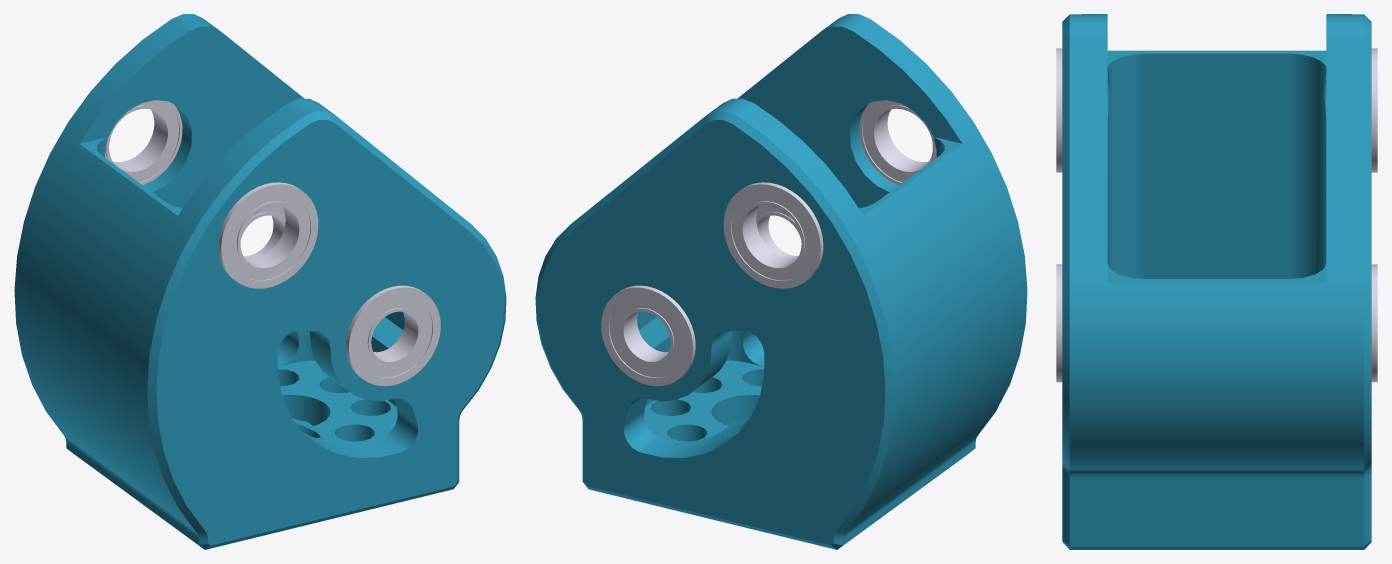
File: shoulder_p.dae
3 renders of one model, left to right at view 1: azimuth 30°, elevation 25°; view 2: azimuth 150°, elevation 25°; view 3: azimuth 270°, elevation 25°, orthographic. The views are drawn at different scales.
Parts seen in each view (by area): view 1: FBXASC227FBXASC130FBXASC189FBXASC227FBXASC131FBXASC170FBXASC (×5); view 2: FBXASC227FBXASC130FBXASC189FBXASC227FBXASC131FBXASC170FBXASC (×5); view 3: FBXASC227FBXASC130FBXASC189FBXASC227FBXASC131FBXASC170FBXASC (×5).
Part boxes in pixels (x1,y1,x2,y2): FBXASC227FBXASC130FBXASC189FBXASC227FBXASC131FBXASC170FBXASC (×5): (14,14,506,549); FBXASC227FBXASC130FBXASC189FBXASC227FBXASC131FBXASC170FBXASC (×5): (535,14,1027,549); FBXASC227FBXASC130FBXASC189FBXASC227FBXASC131FBXASC170FBXASC (×5): (1056,14,1377,549).
Bounding box in the file's own units: 0.061 × 0.0426 × 0.0667.
